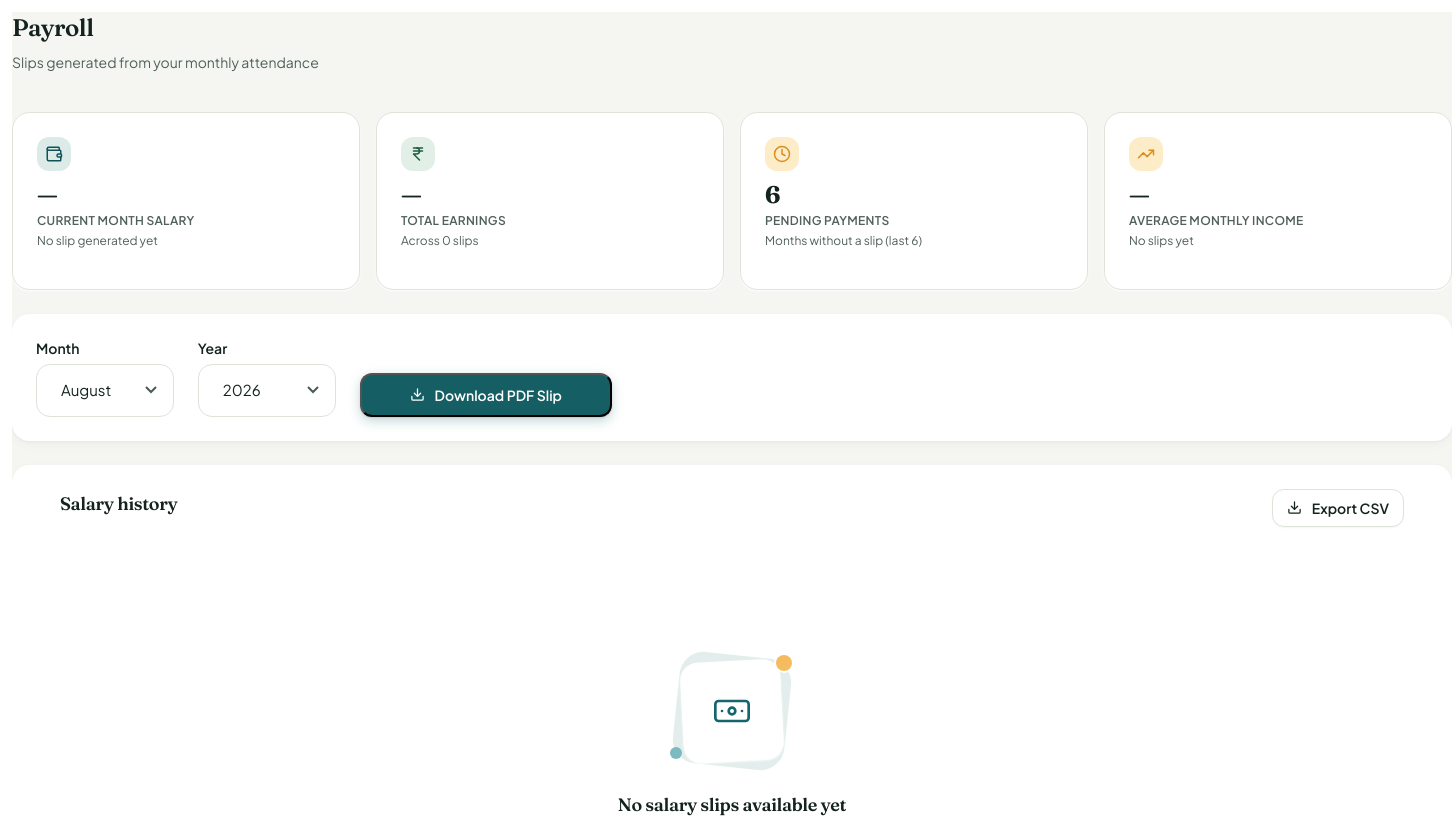
Test case: MySalarySlips › surfaces the backend message when the slip cannot be generated (blob error body)
The width and height of the screenshot is (1452, 822).
Click the button with test id "download-salary-slip". click: [486, 394]
box: [360,372,612,416]
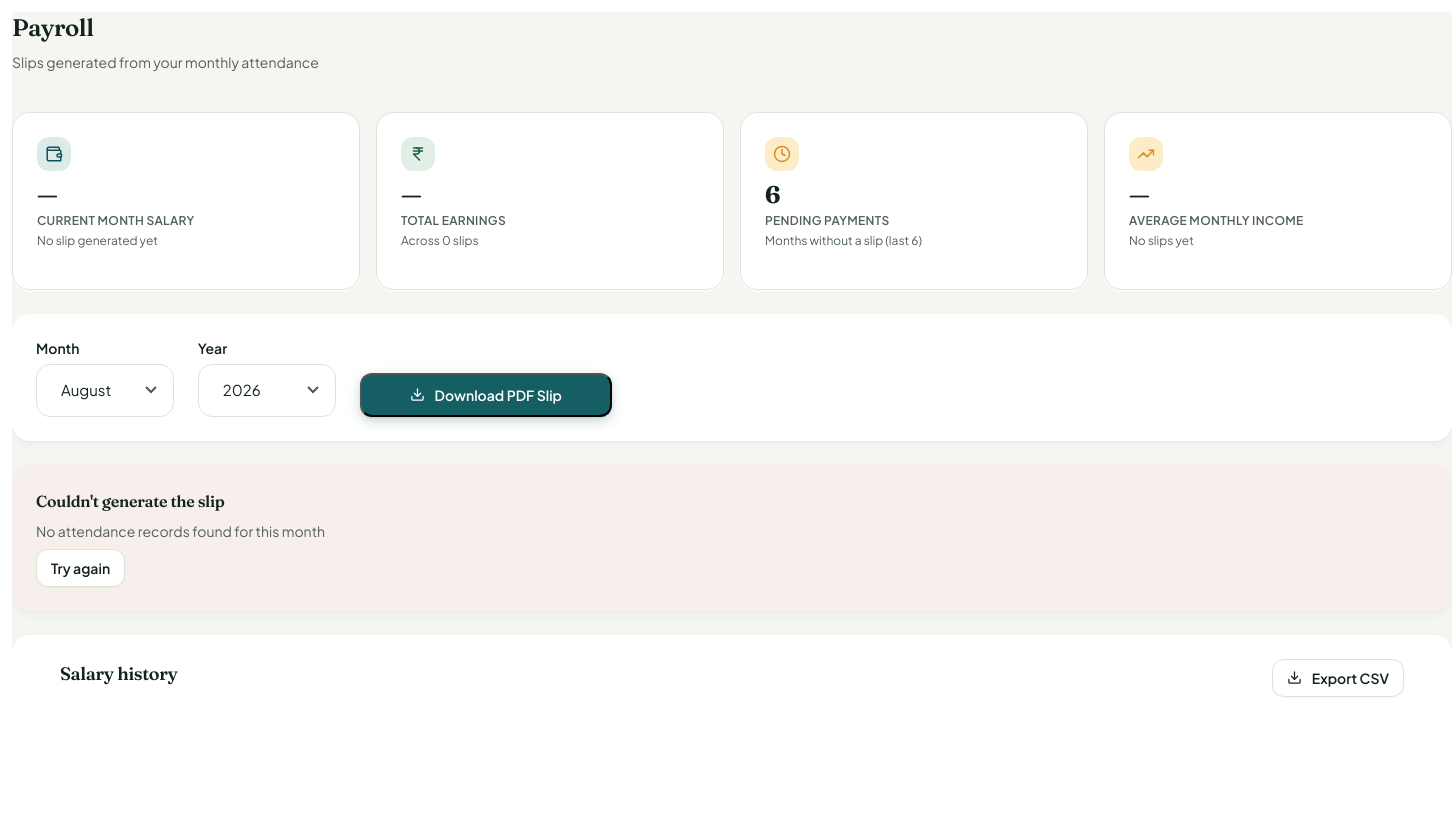
Expected: the heading "Couldn't generate the slip" is shown, [36,490,224,510]
Expected: the text "No attendance records found for this month" is shown, [36,522,325,540]
Expected: the button "Try again" is shown, [36,548,125,586]
